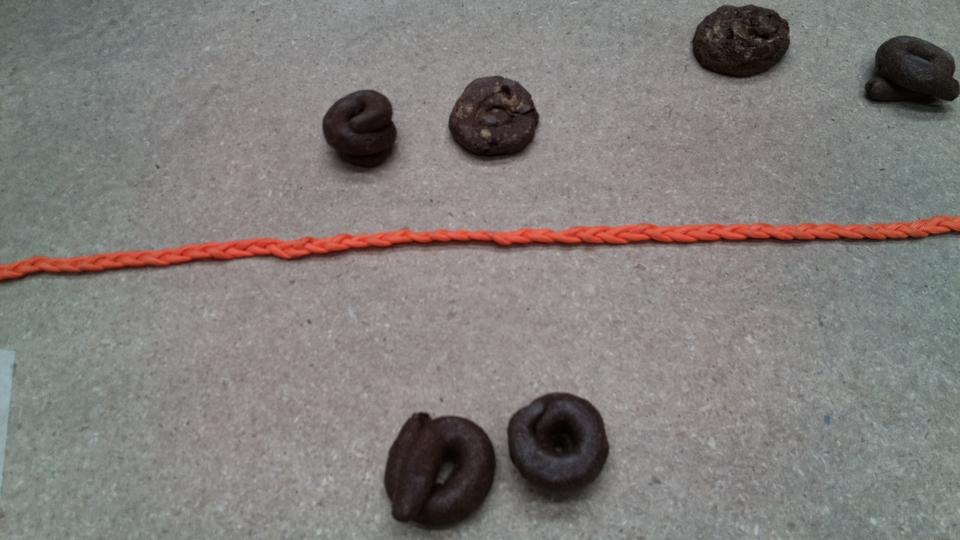poop: (383, 406, 502, 534), (505, 387, 618, 500), (445, 75, 544, 170), (691, 1, 799, 86), (314, 88, 412, 179), (866, 35, 960, 119)
rope: (438, 208, 960, 265), (205, 226, 464, 288), (7, 239, 218, 284)
